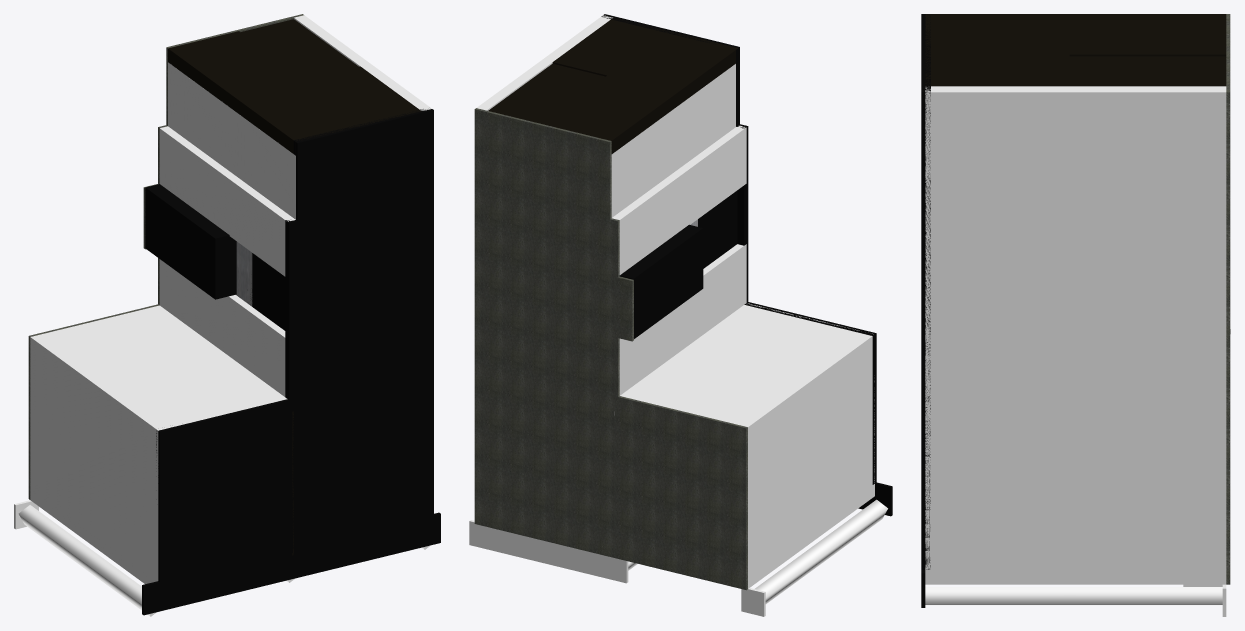
File: Lobby.obj
3 views of the same model, side by side, from view 1: azimuth 30°, elevation 25°; view 2: azimuth 150°, elevation 25°; view 3: azimuth 270°, elevation 25° (orthographic). The views are drawn at different scales.
Parts seen in each view (by area): view 1: object_111, object_77, object_106, object_46, object_110, object_47, object_82, object_107, object_83, object_1, object_108, object_104 (+3 smaller); view 2: object_87, object_77, object_106, object_46, object_47, object_82, object_107, object_111, object_1, object_83, object_108, object_69 (+2 smaller); view 3: object_68, object_106, object_98, object_107, object_111, object_87, object_108.
Part boxes in pixels (x1=…): object_111: x1=156, y1=109, x2=433, y2=581; object_77: x1=30, y1=259, x2=287, y2=584; object_106: x1=175, y1=31, x2=421, y2=139; object_46: x1=159, y1=116, x2=295, y2=276; object_110: x1=142, y1=512, x2=440, y2=615; object_47: x1=145, y1=184, x2=236, y2=299; object_82: x1=168, y1=62, x2=236, y2=165; object_107: x1=240, y1=19, x2=358, y2=79; object_83: x1=237, y1=113, x2=295, y2=208; object_1: x1=18, y1=505, x2=156, y2=616; object_108: x1=168, y1=47, x2=302, y2=155; object_104: x1=251, y1=253, x2=285, y2=330; object_87: x1=474, y1=108, x2=747, y2=590; object_77: x1=619, y1=244, x2=874, y2=588; object_106: x1=541, y1=18, x2=731, y2=139; object_46: x1=611, y1=116, x2=746, y2=274; object_47: x1=619, y1=224, x2=703, y2=338; object_82: x1=611, y1=105, x2=679, y2=206; object_107: x1=488, y1=63, x2=605, y2=123; object_111: x1=601, y1=14, x2=876, y2=484; object_1: x1=744, y1=499, x2=887, y2=611; object_83: x1=680, y1=64, x2=735, y2=156; object_108: x1=605, y1=46, x2=737, y2=153; object_69: x1=492, y1=528, x2=603, y2=577; object_68: x1=925, y1=86, x2=1226, y2=584; object_106: x1=925, y1=18, x2=1226, y2=86; object_98: x1=925, y1=587, x2=1222, y2=605; object_107: x1=1069, y1=56, x2=1226, y2=86; object_111: x1=921, y1=14, x2=930, y2=569; object_87: x1=1226, y1=14, x2=1230, y2=584; object_108: x1=925, y1=14, x2=1226, y2=17.
Size of the model in its own units: 216 by 307 by 165.
Materials: 16 (6 with a texture image).
